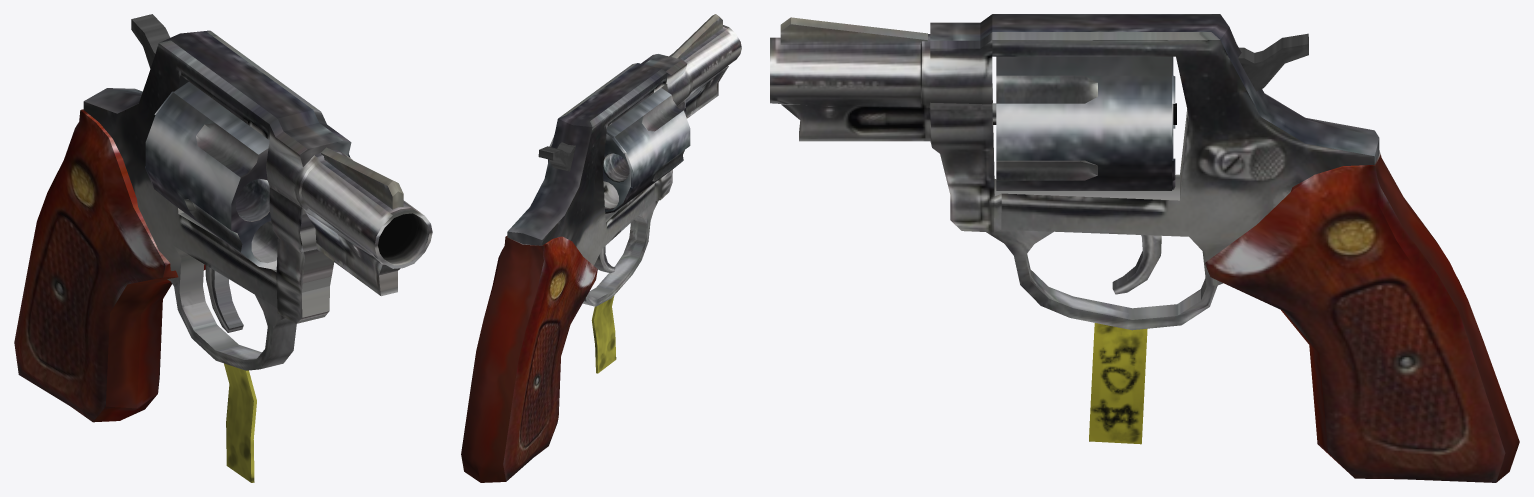
The model's file is RevolverApart.fbx.
The picture shows the model from 3 angles, left to right: view 1: azimuth 30°, elevation 25°; view 2: azimuth 150°, elevation 25°; view 3: azimuth 270°, elevation 25°; orthographic projection. The views are drawn at different scales.
Visible parts, largest first — view 1: Revolver.002, Revolver.008, Revolver.005, Revolver.003, Revolver.004; view 2: Revolver.002, Revolver.008, Revolver.005, Revolver.004; view 3: Revolver.002, Revolver.008, Revolver.005, Revolver.004, Revolver.003.
Boxes of the visible parts, <box> form: Revolver.002: <box>14,30,432,422</box>; Revolver.008: <box>145,82,350,269</box>; Revolver.005: <box>224,363,256,482</box>; Revolver.003: <box>205,265,243,332</box>; Revolver.004: <box>131,14,170,68</box>; Revolver.002: <box>461,14,741,482</box>; Revolver.008: <box>548,88,690,213</box>; Revolver.005: <box>591,296,616,373</box>; Revolver.004: <box>538,142,575,171</box>; Revolver.002: <box>770,14,1519,482</box>; Revolver.008: <box>992,56,1176,190</box>; Revolver.005: <box>1089,323,1147,444</box>; Revolver.004: <box>1238,33,1308,91</box>; Revolver.003: <box>1112,235,1161,294</box>.
Size of the model in its own units: 45.13 by 151 by 226.
